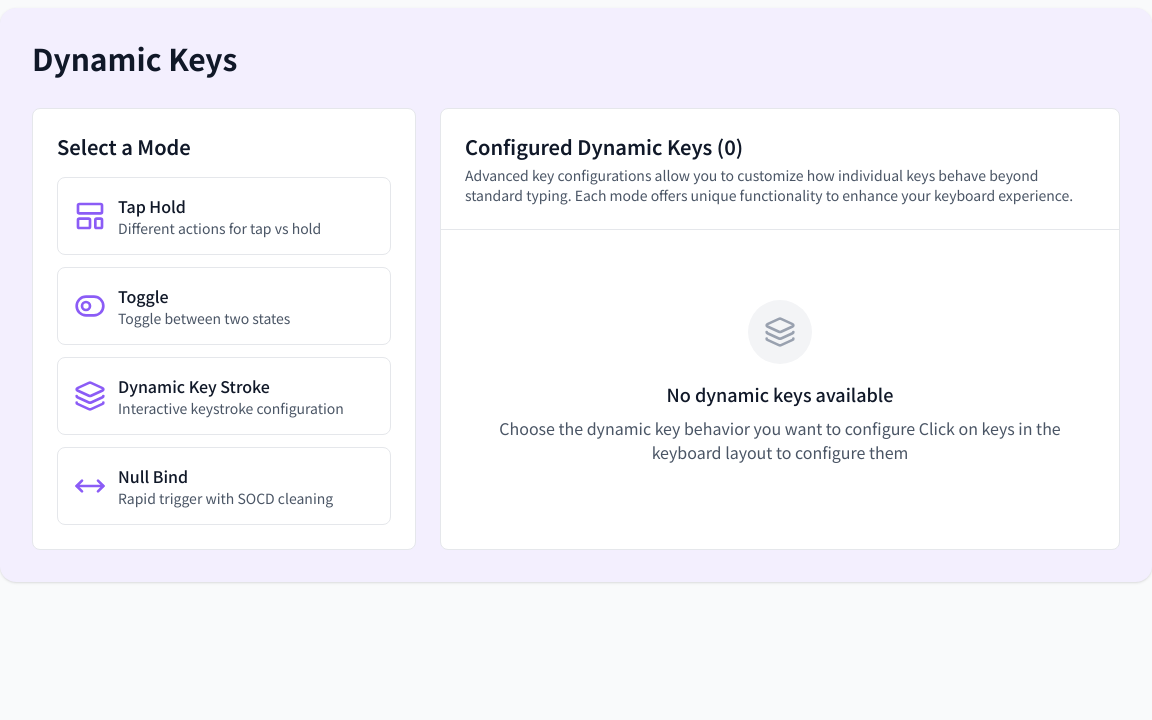
Scenario: Toggle editor › starts a key without a toggle at Caps Lock, on press, inactive
Click the button "Toggle Toggle between two states".
click(224, 306)  # box [57,267,391,345]
(page scrolled)
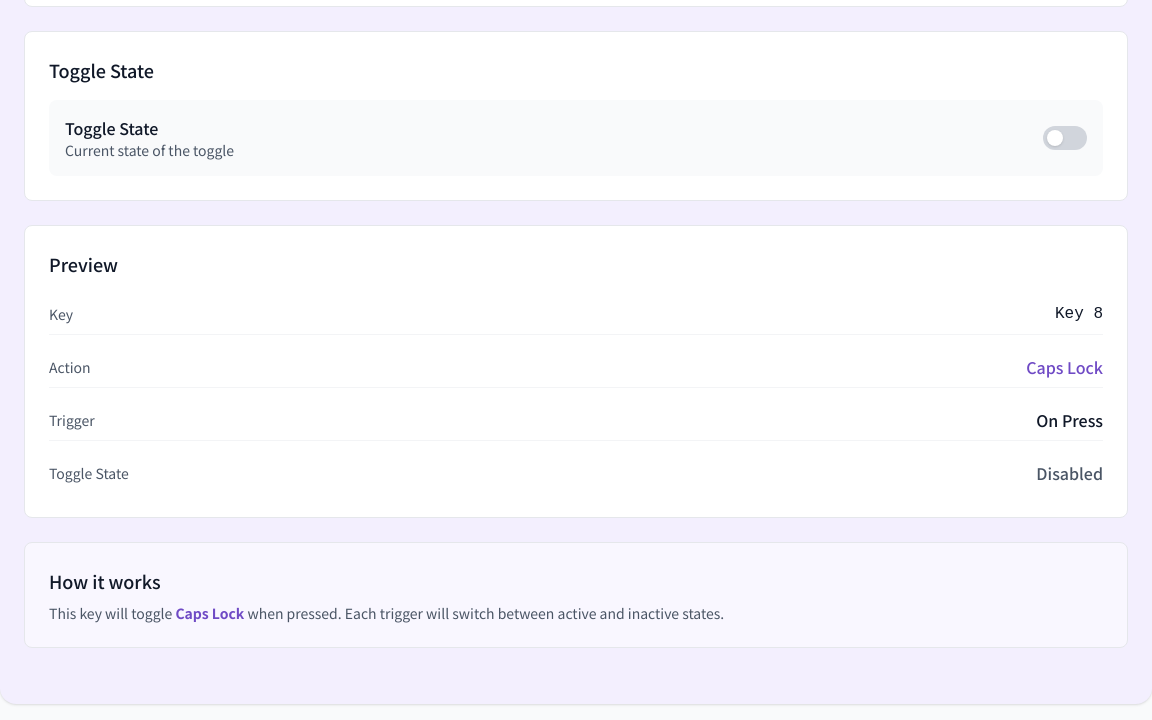
Now the 1st text "Caps Lock" is shown, box [1026,355,1103,379]
Now the text "On Press" is shown, box [1036,408,1103,432]
Now the text "Disabled" is shown, box [1036,461,1103,485]
